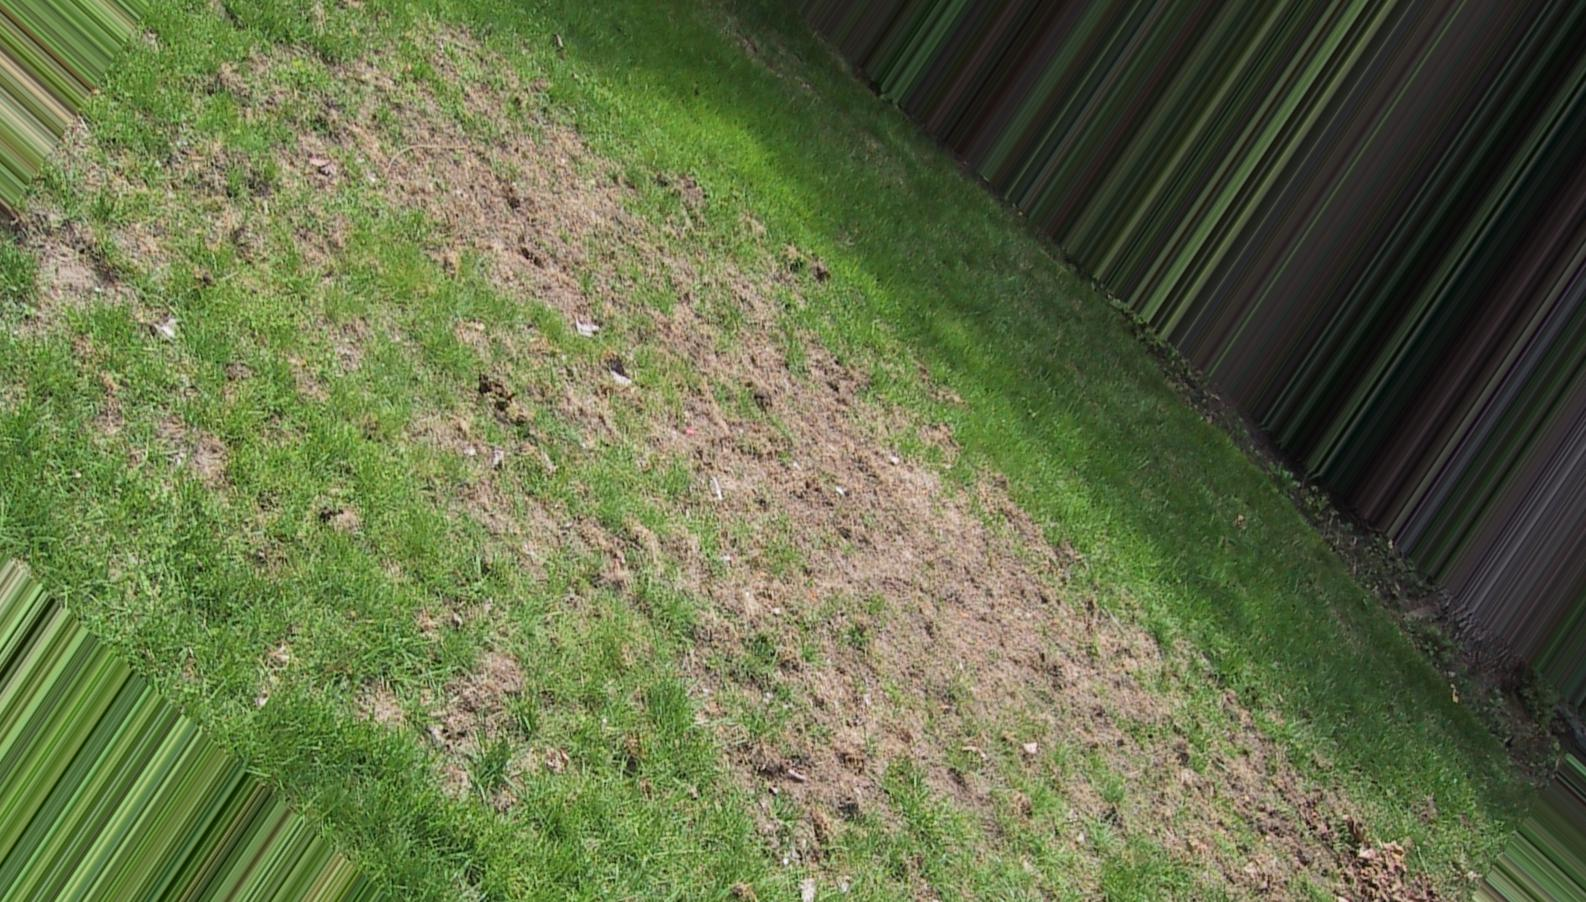patch: (741, 331, 1066, 773), (1096, 681, 1292, 886), (466, 422, 679, 576), (416, 111, 593, 272)
